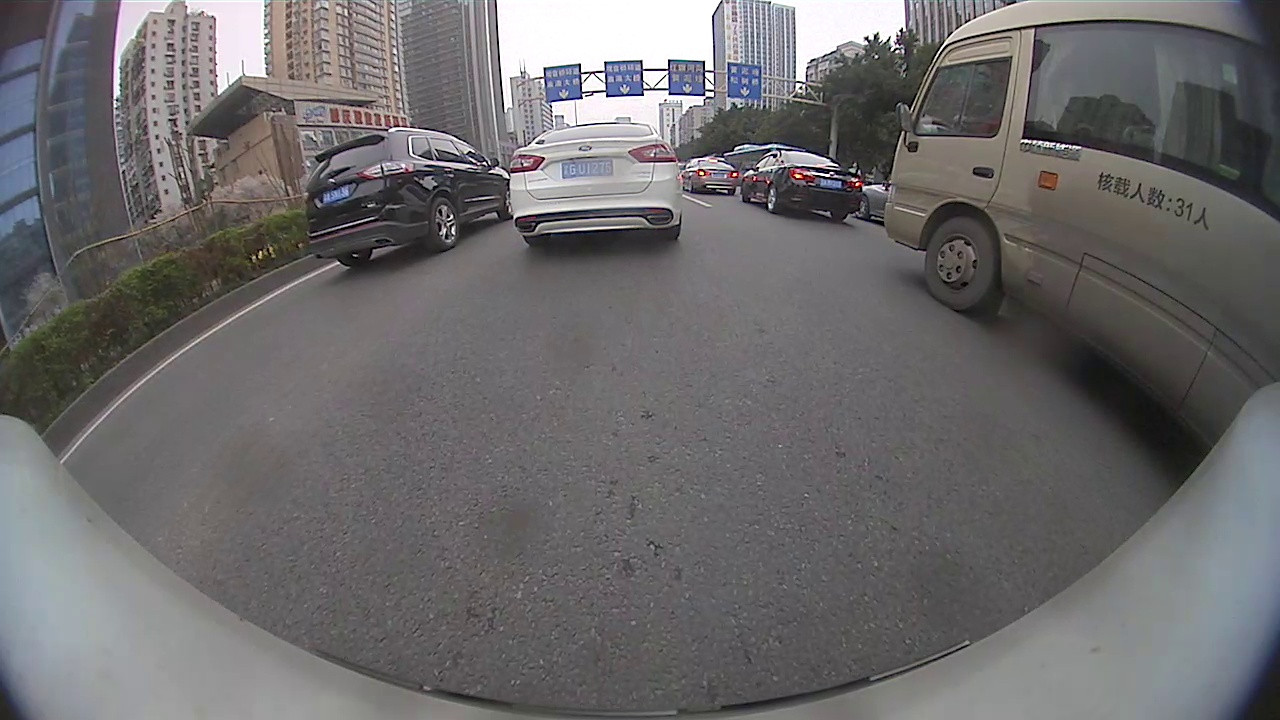bus: (886, 1, 1279, 446)
car: (304, 126, 509, 265), (507, 125, 683, 244), (740, 150, 864, 221), (686, 158, 738, 196), (866, 185, 889, 219)
front: (922, 215, 1001, 313), (496, 191, 517, 222)
rear: (419, 196, 460, 250), (765, 183, 784, 214)
